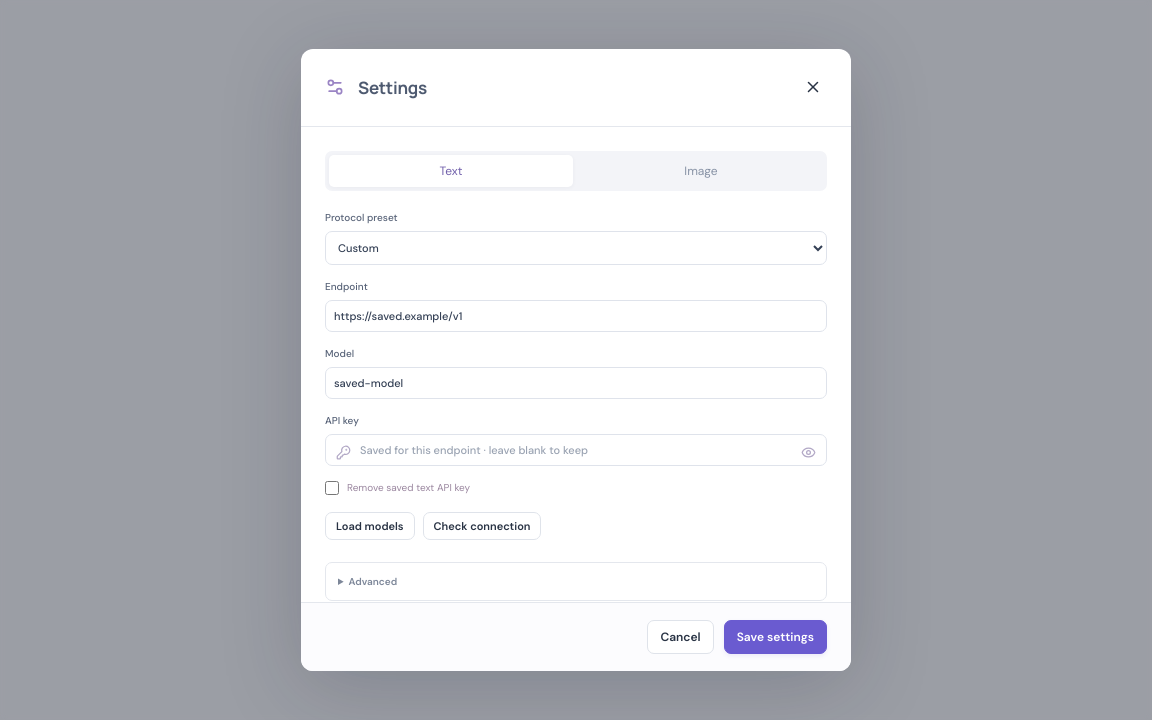
it: provider metadata settings › presets only change endpoint/protocol and preserve entered model, key and prices
The width and height of the screenshot is (1152, 720).
Type "entered-key" into the password field named "Text API key" at coordinates (576, 450), box x1=325 y1=434 x2=827 y2=466
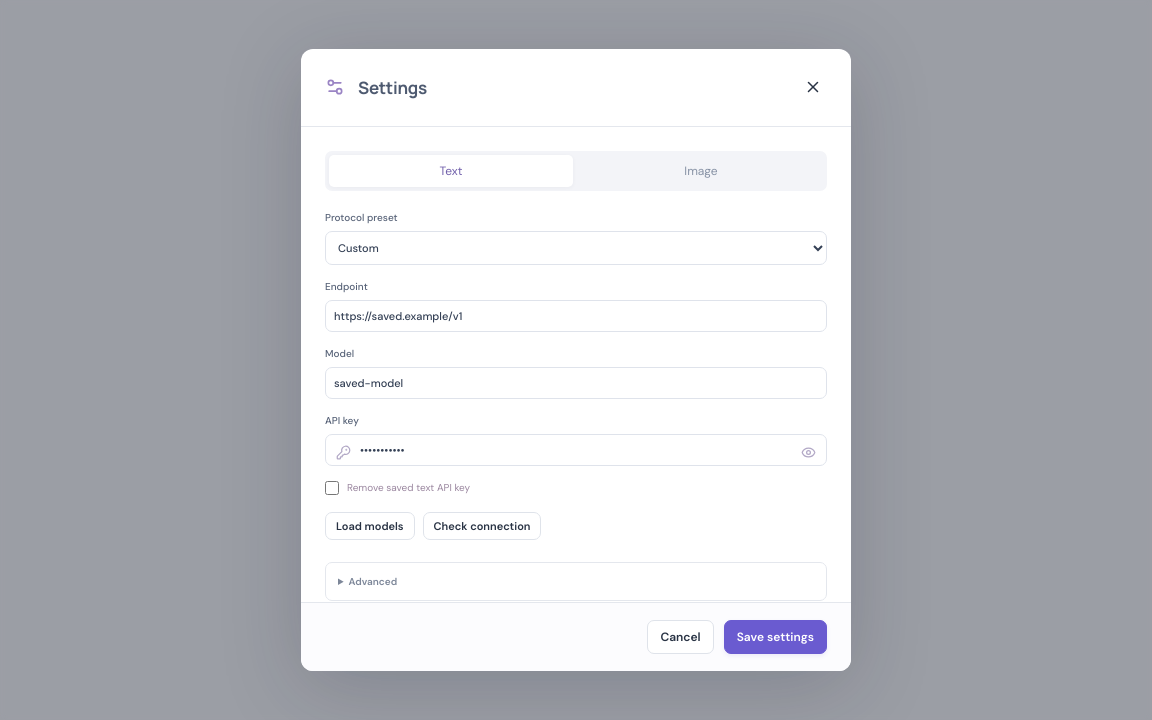
Select "Ollama" in the dropdown labelled "Protocol preset" at coordinates (576, 248), box x1=325 y1=231 x2=827 y2=265
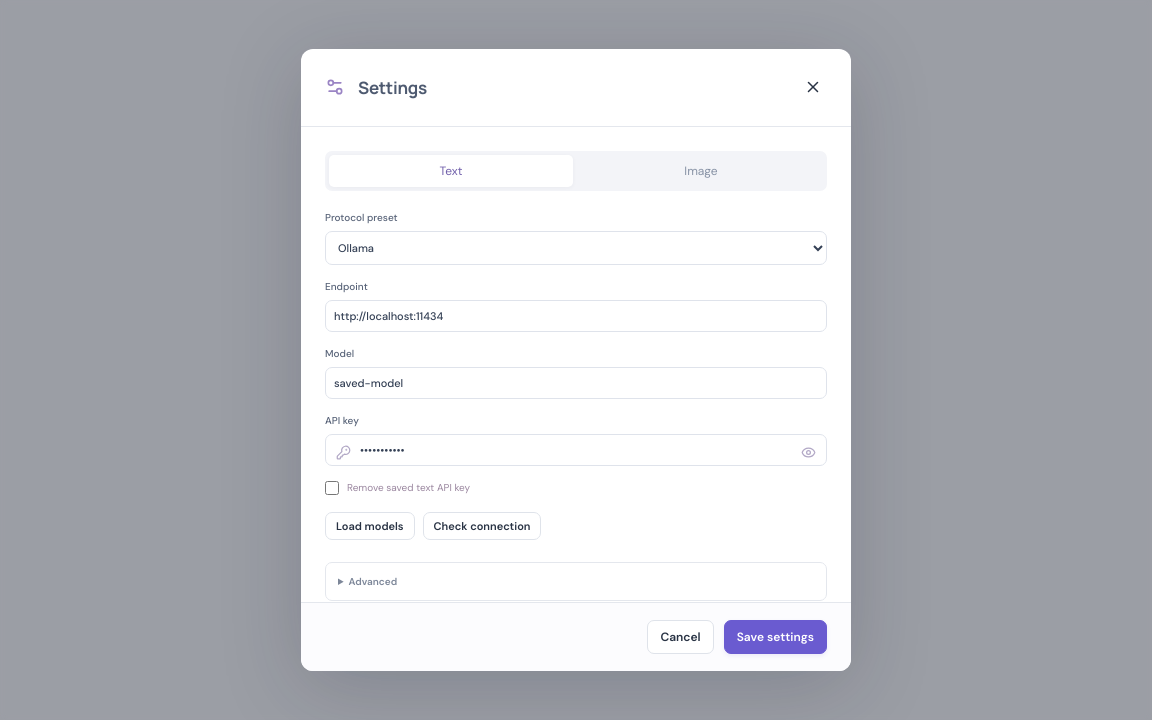
Expected: the field named "Text model" holds "saved-model", x1=325 y1=367 x2=827 y2=399
Now the field labelled "Endpoint" holds "http://localhost:11434", box x1=325 y1=300 x2=827 y2=332
Click the button "Load models" at coordinates (370, 526), box x1=325 y1=512 x2=415 y2=540
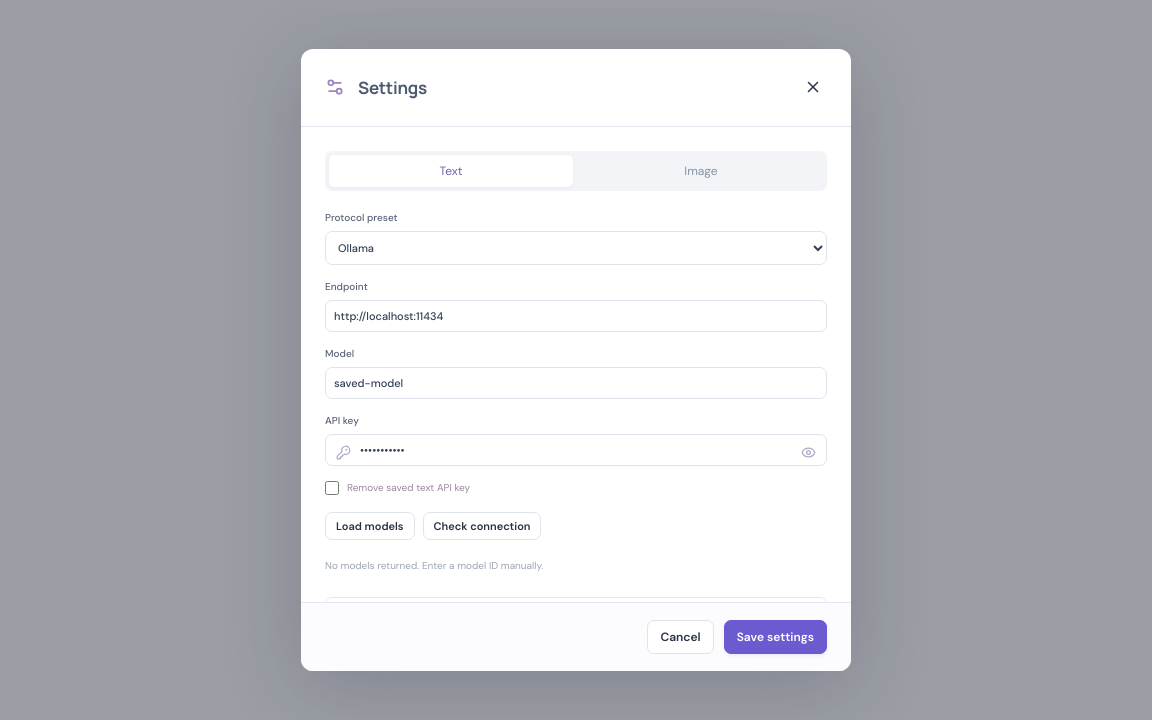
Now the text "No models returned. Enter a model ID manually." is shown, box x1=325 y1=559 x2=543 y2=572
